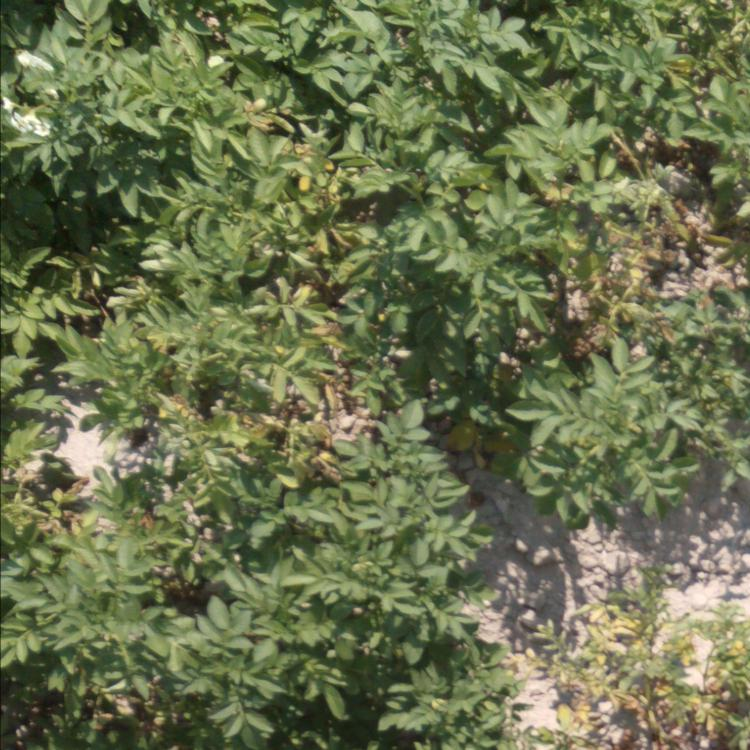healthy: (5, 558, 490, 745), (390, 121, 506, 458), (399, 1, 746, 113), (4, 78, 160, 294), (530, 344, 723, 505), (2, 1, 369, 75), (220, 471, 456, 557), (1, 299, 101, 462)
stressed: (128, 305, 372, 467), (546, 120, 726, 317), (185, 97, 372, 285), (520, 595, 750, 744), (1, 470, 147, 550)
